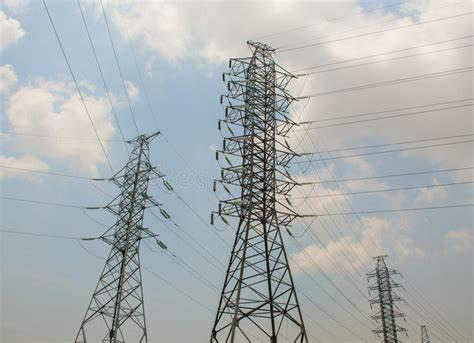power_tower: (200, 36, 323, 343), (72, 118, 178, 343), (360, 250, 415, 343)
